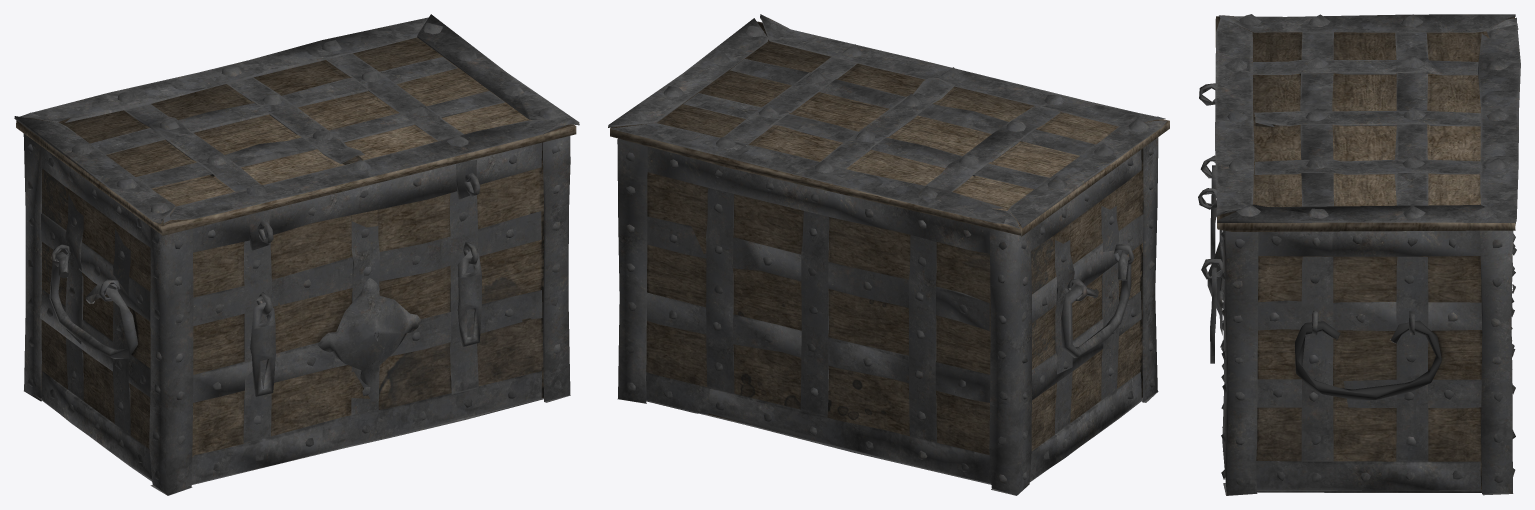
Rendered from chest_old.glb.
3 views of the same model, side by side, from view 1: azimuth 30°, elevation 25°; view 2: azimuth 150°, elevation 25°; view 3: azimuth 270°, elevation 25° (orthographic).
Visible parts, largest first — view 1: defaultMaterial, defaultMaterial.001; view 2: defaultMaterial, defaultMaterial.001; view 3: defaultMaterial, defaultMaterial.001.
Boxes of the visible parts, box(x1,y1,x2,y2) form: defaultMaterial: box(14, 14, 579, 495); defaultMaterial.001: box(16, 37, 576, 457); defaultMaterial: box(608, 14, 1166, 495); defaultMaterial.001: box(610, 21, 1169, 479); defaultMaterial: box(1198, 14, 1520, 495); defaultMaterial.001: box(1215, 16, 1515, 489).
Bounding box in the file's own units: 0.9447 × 0.577 × 0.5823.
2 materials, 2 textured.
